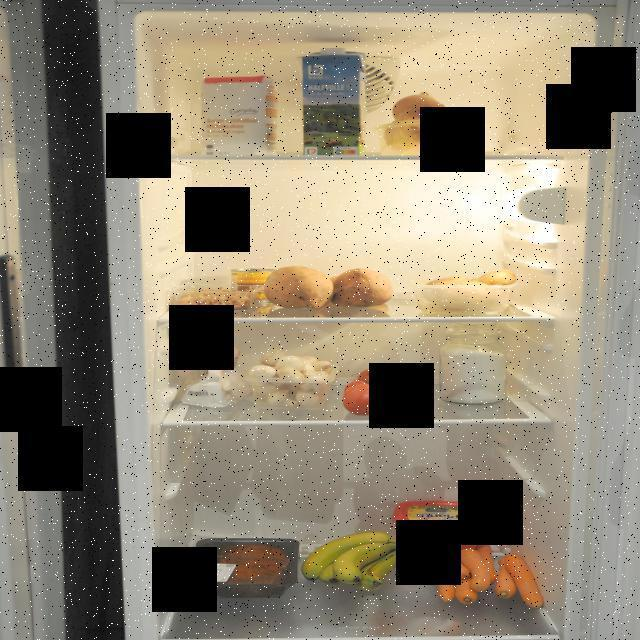banana: (295, 528, 415, 592)
beef: (182, 538, 300, 598)
butter: (391, 498, 488, 564)
carrot: (424, 545, 548, 612)
corn: (230, 268, 276, 307)
flour: (180, 334, 250, 410)
milk: (298, 45, 366, 159)
mushrooms: (253, 348, 335, 402)
onion: (374, 90, 492, 156)
potato: (411, 267, 521, 313)
shrimp: (174, 288, 253, 312)
sugar: (201, 76, 279, 156), (440, 321, 508, 405)
sweet_potato: (262, 266, 394, 312)
tomato: (341, 363, 441, 418)
